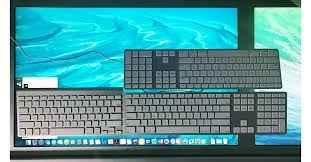keyboard: (122, 40, 284, 89), (121, 92, 288, 137), (16, 89, 119, 135)
